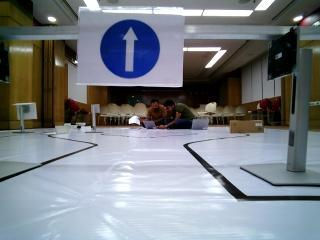straight: (80, 10, 179, 83)
